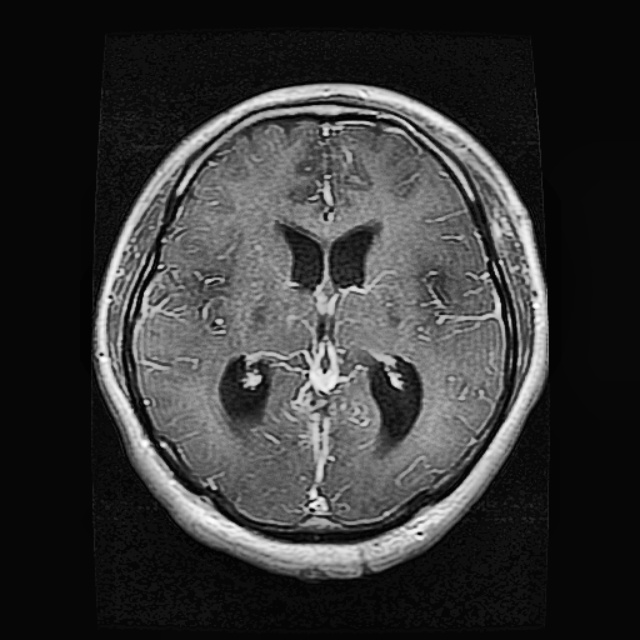Glioma: (365, 353, 420, 449)
